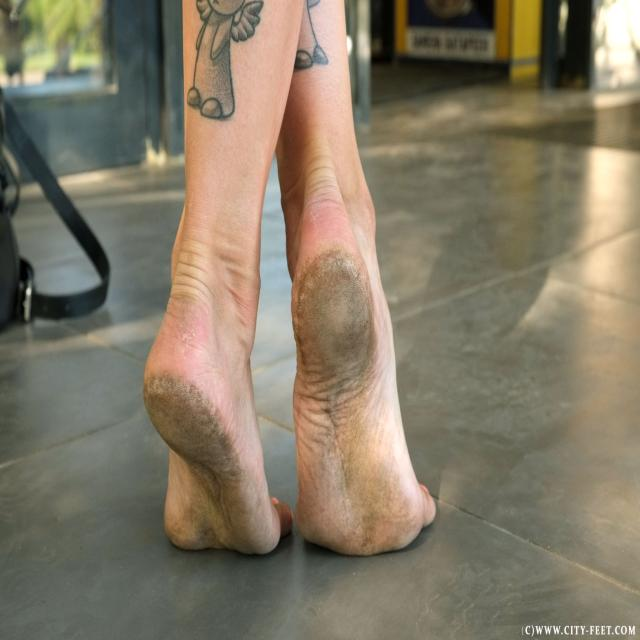Barefoots: (291, 218, 436, 556), (143, 308, 294, 555)
